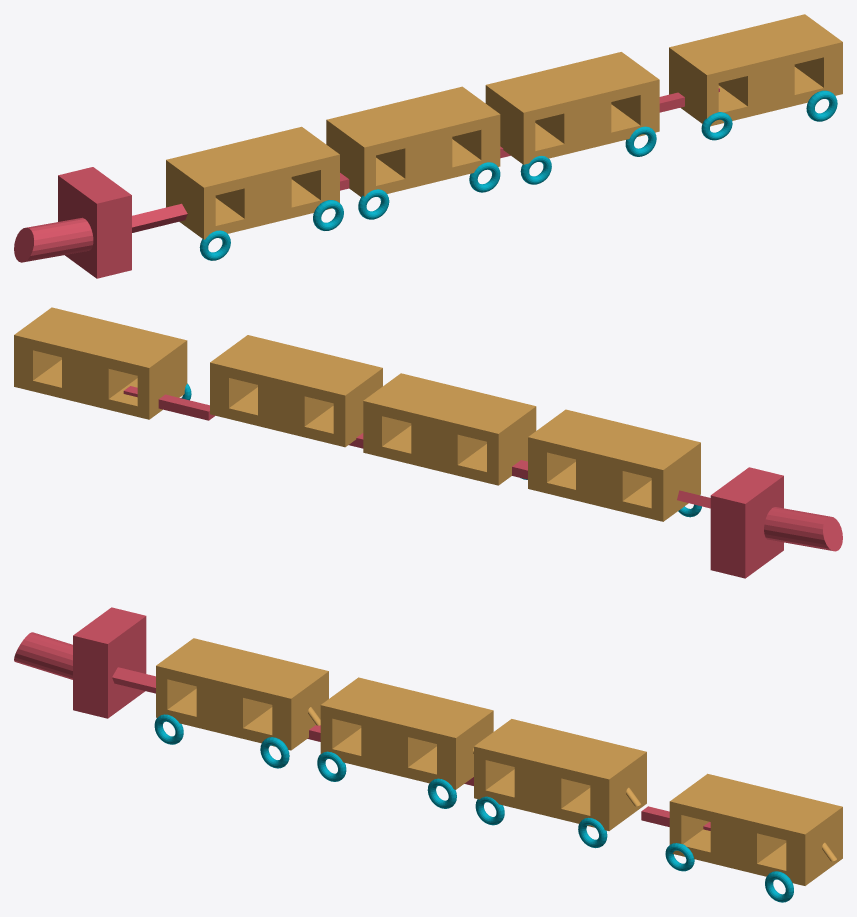
Rendered from Tremendous Robo.glb.
3 renders of one model, top to bottom at view 1: azimuth 30°, elevation 25°; view 2: azimuth 150°, elevation 25°; view 3: azimuth 330°, elevation 25°, orthographic.
Parts seen in each view (by area): view 1: Mesh_Mesh_head_geo.001_lambert2SG.001; view 2: Mesh_Mesh_head_geo.001_lambert2SG.001; view 3: Mesh_Mesh_head_geo.001_lambert2SG.001.
Boxes of the visible parts, bbox=[...] form: Mesh_Mesh_head_geo.001_lambert2SG.001: bbox=[14, 14, 842, 278]; Mesh_Mesh_head_geo.001_lambert2SG.001: bbox=[14, 307, 842, 578]; Mesh_Mesh_head_geo.001_lambert2SG.001: bbox=[14, 607, 842, 902].
Size of the model in its own units: 560 by 58 by 66.
